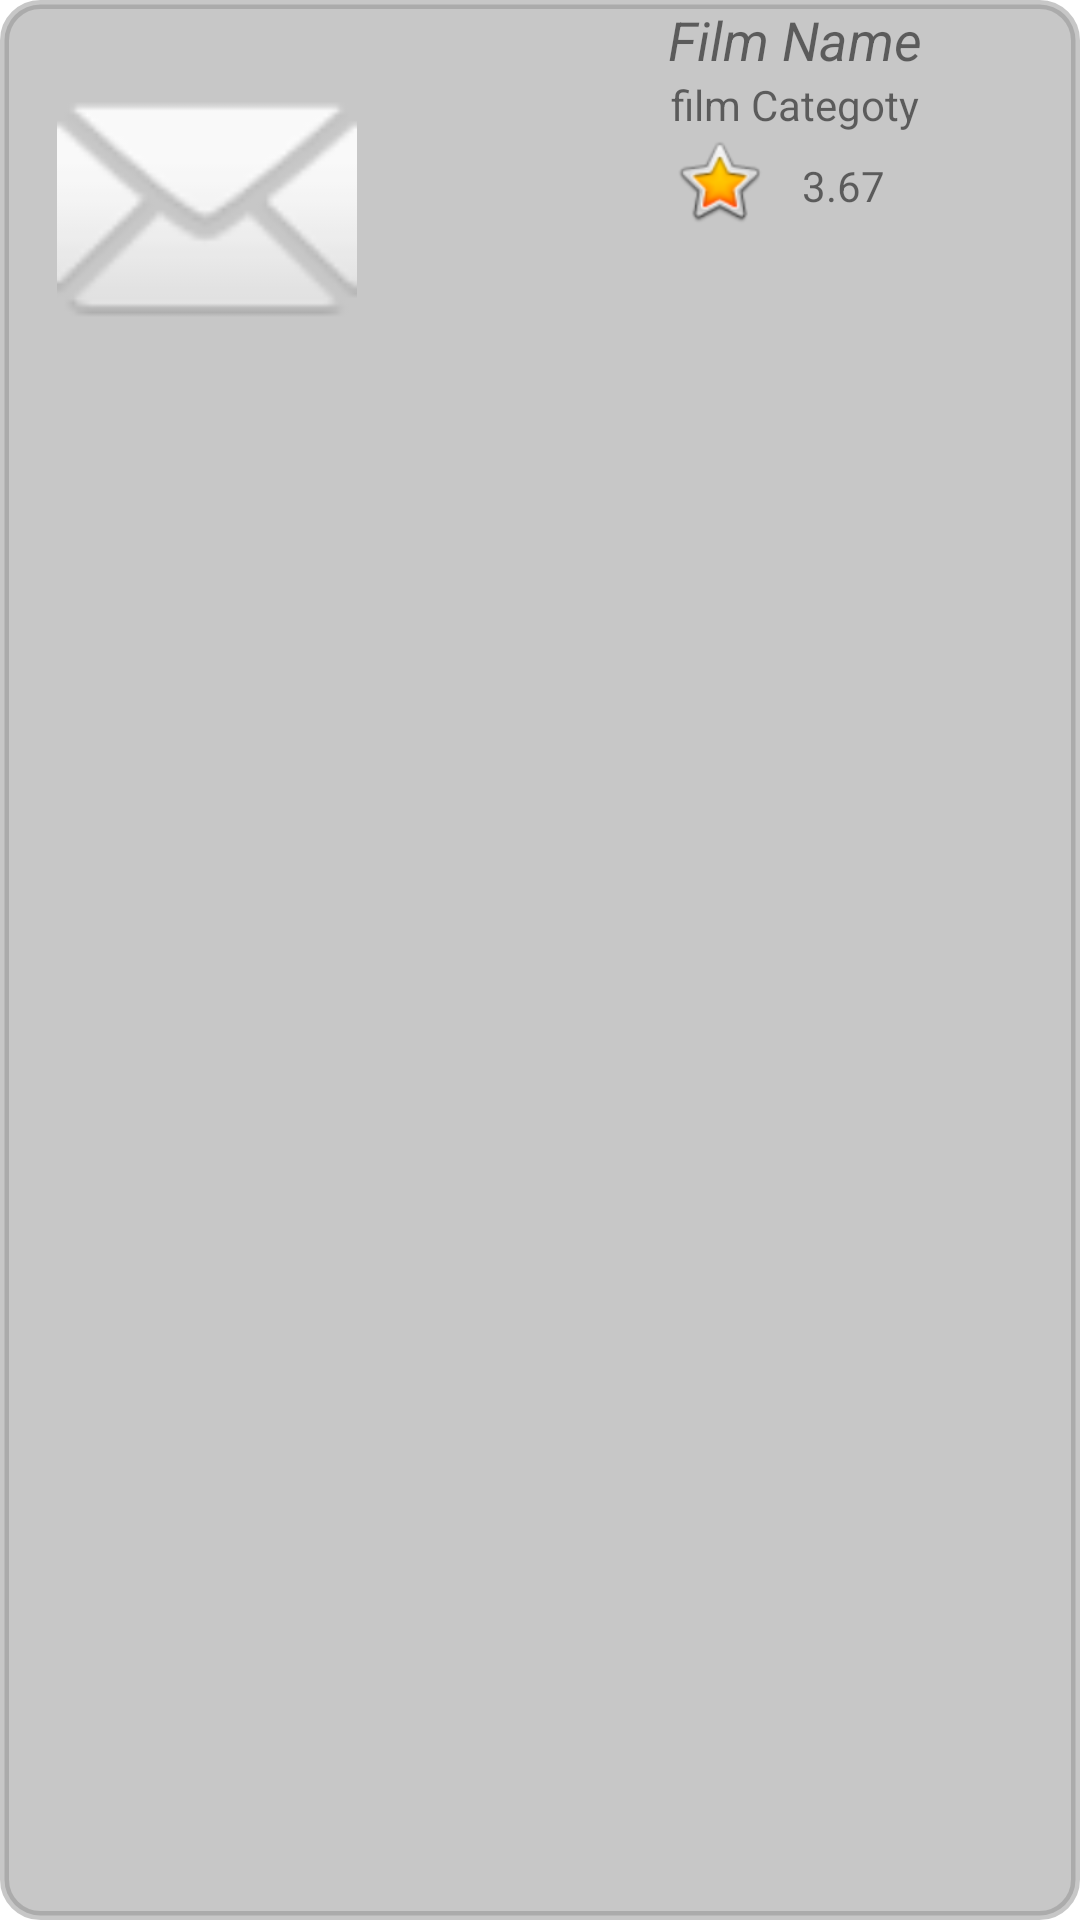

Screen size 1080×1920. Icon name, then its box in pixels as (x1, y1, x2, y2):
email: (57, 107, 357, 313)
star on: (680, 143, 760, 221)
